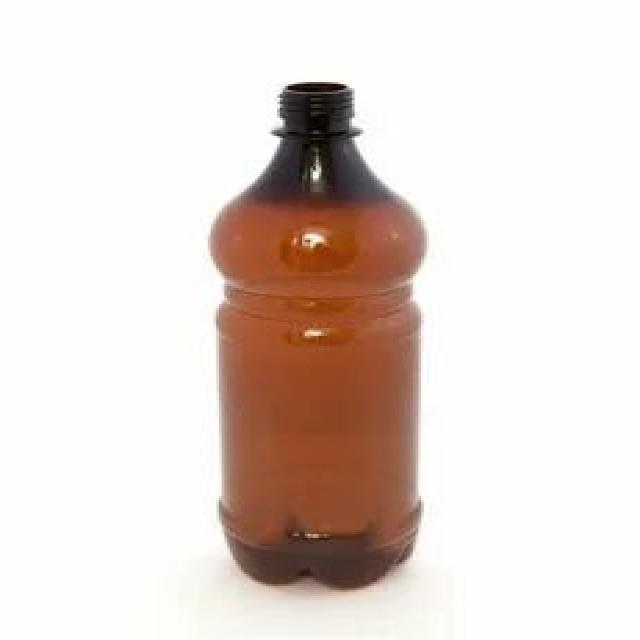brown: (206, 80, 427, 588)
